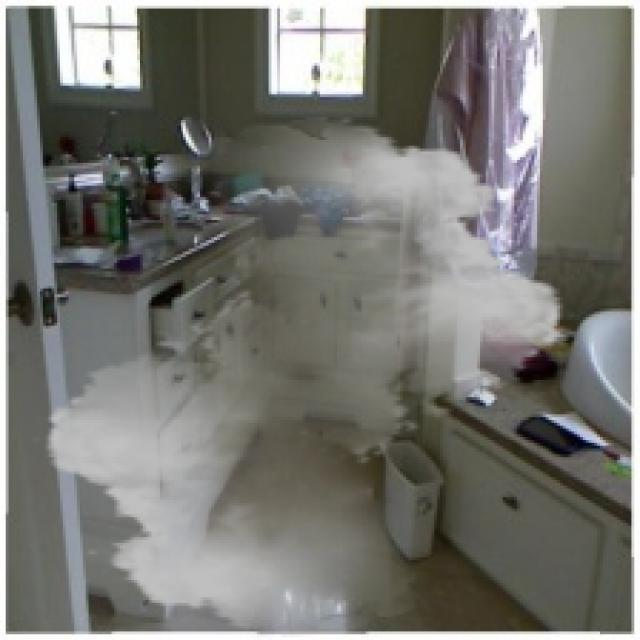Smoke: (28, 117, 580, 637)
